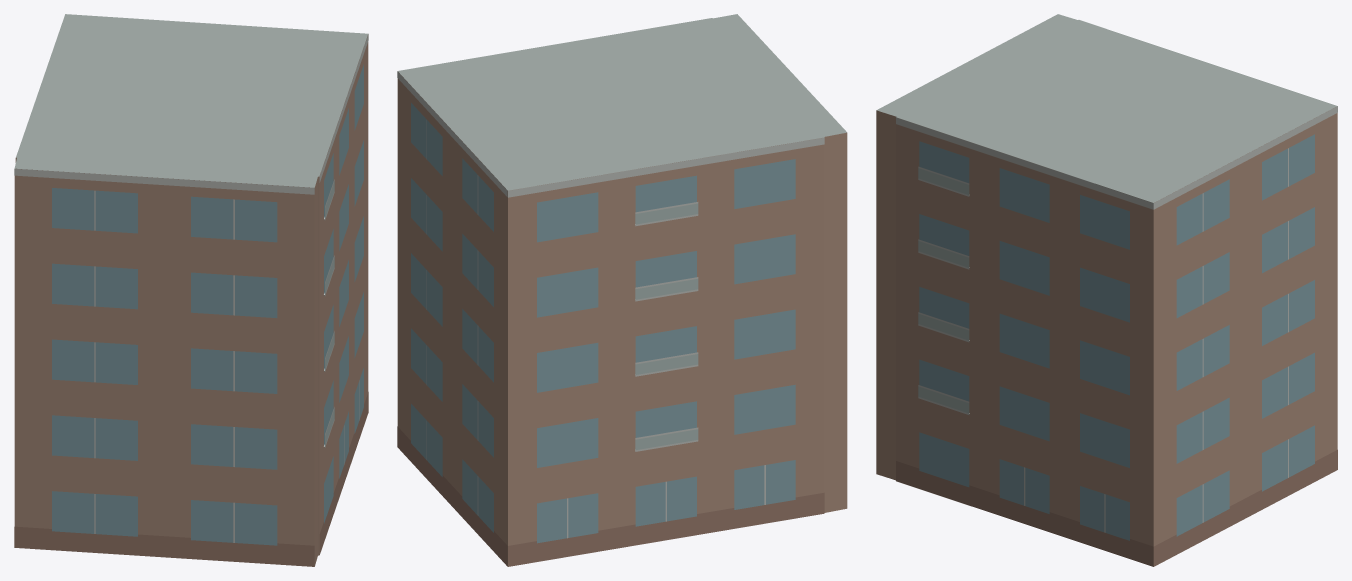
File: survey-upis-32952540.glb
3 views of the same model, side by side, from view 1: azimuth 30°, elevation 25°; view 2: azimuth 150°, elevation 25°; view 3: azimuth 270°, elevation 25° (orthographic). The views are drawn at different scales.
Visible parts, largest first — view 1: survey-upis-32952540.tmp; view 2: survey-upis-32952540.tmp; view 3: survey-upis-32952540.tmp.
Boxes of the visible parts, x1,y1,x2,y2 form: survey-upis-32952540.tmp: (14,14,368,566); survey-upis-32952540.tmp: (397,14,847,566); survey-upis-32952540.tmp: (876,14,1337,566).
Bounding box in the file's own units: 14.72 × 13.2 × 15.18.
